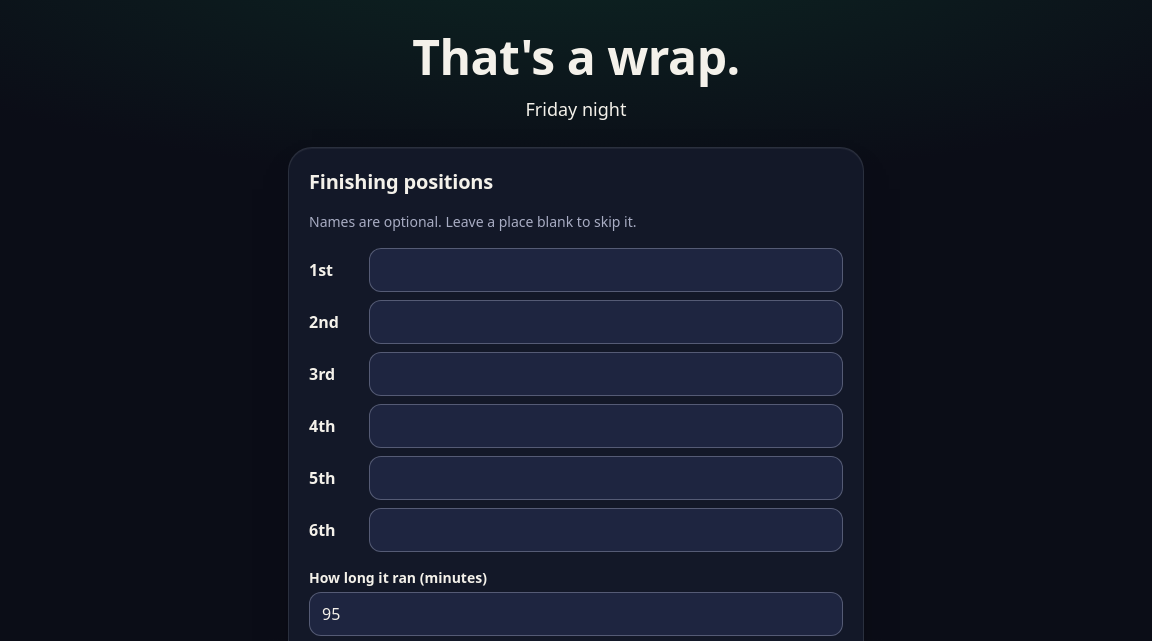
Test: results screen › records finishing positions and the actual duration
Expected: the heading "That's a wrap." is shown, [412, 24, 740, 89]
Expected: the field labelled "How long it ran (minutes)" holds "95", [309, 592, 843, 636]
Type "Sam" into the field named "Name for 1st place" at (606, 270), box [369, 248, 843, 292]
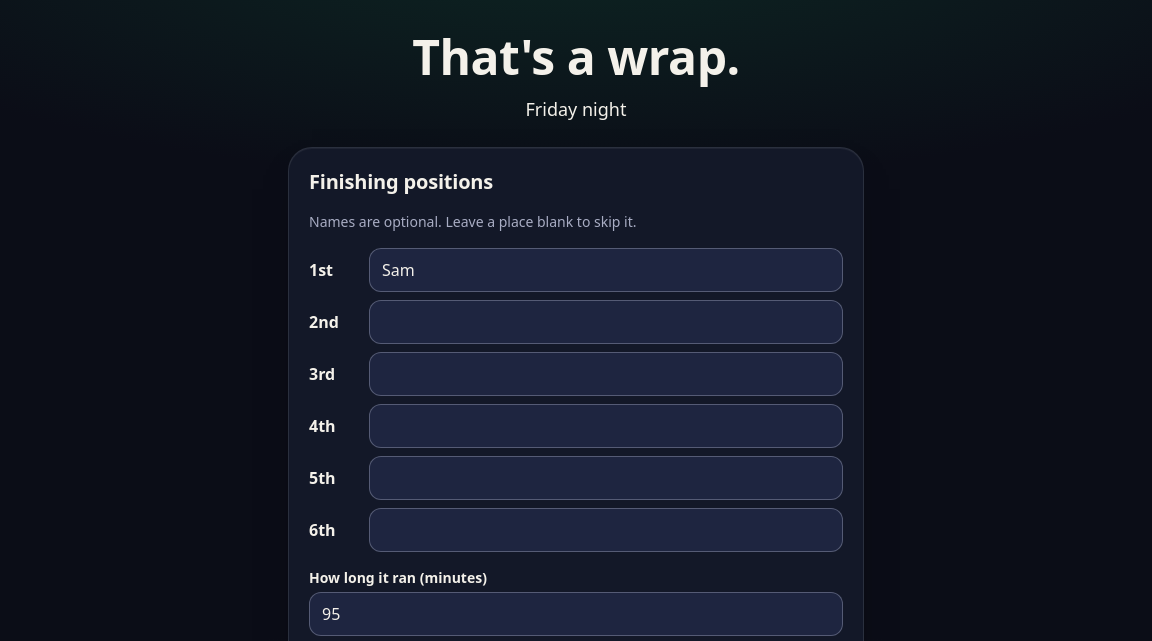
Replace the text in the field labelled "How long it ran (minutes)" with "abc" at (576, 614), box [309, 592, 843, 636]
(page scrolled)
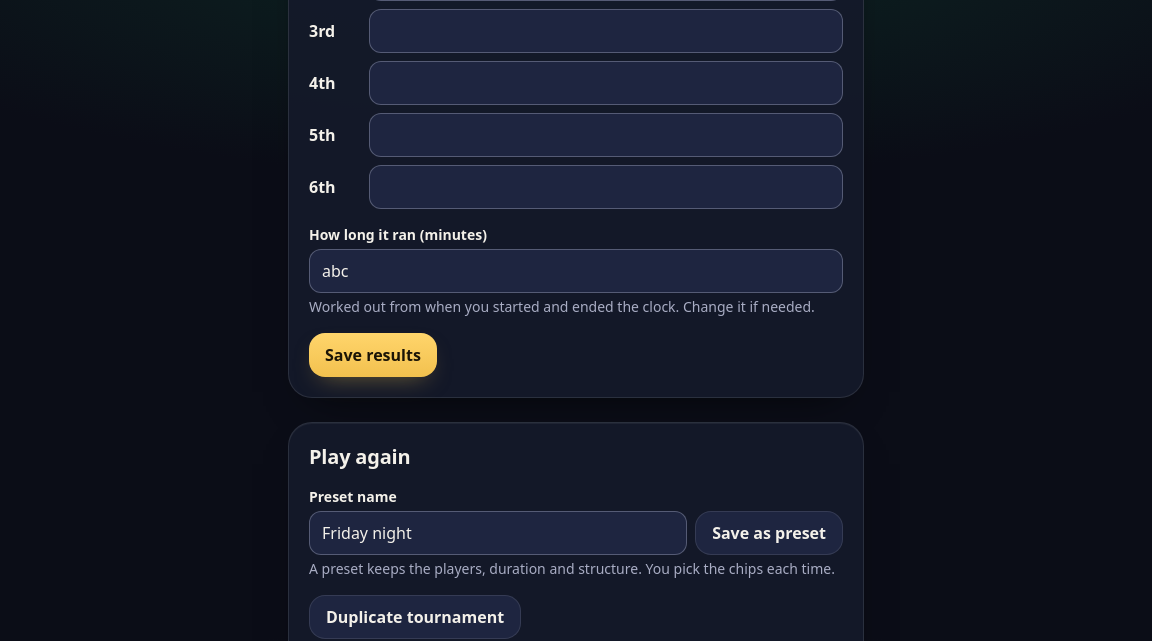
Click the button "Save results" at (373, 355), box [309, 333, 437, 377]
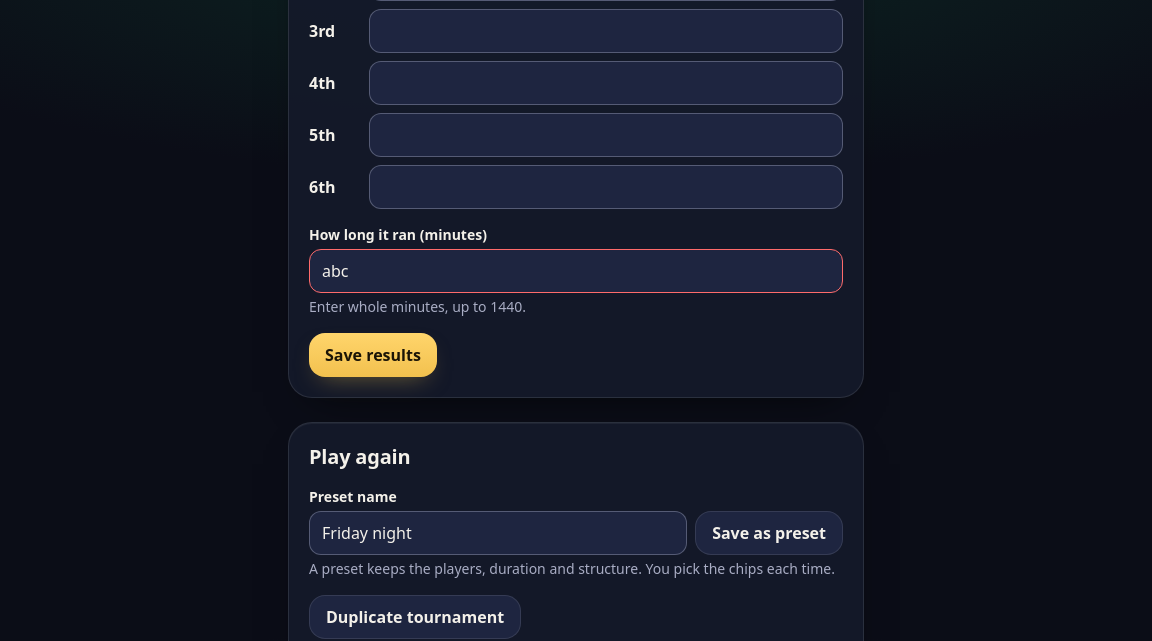
Now the text "Enter whole minutes, up to 1440." is shown, box [309, 297, 526, 316]
Replace the text in the field labelled "How long it ran (minutes)" with "100" at (576, 271), box [309, 249, 843, 293]
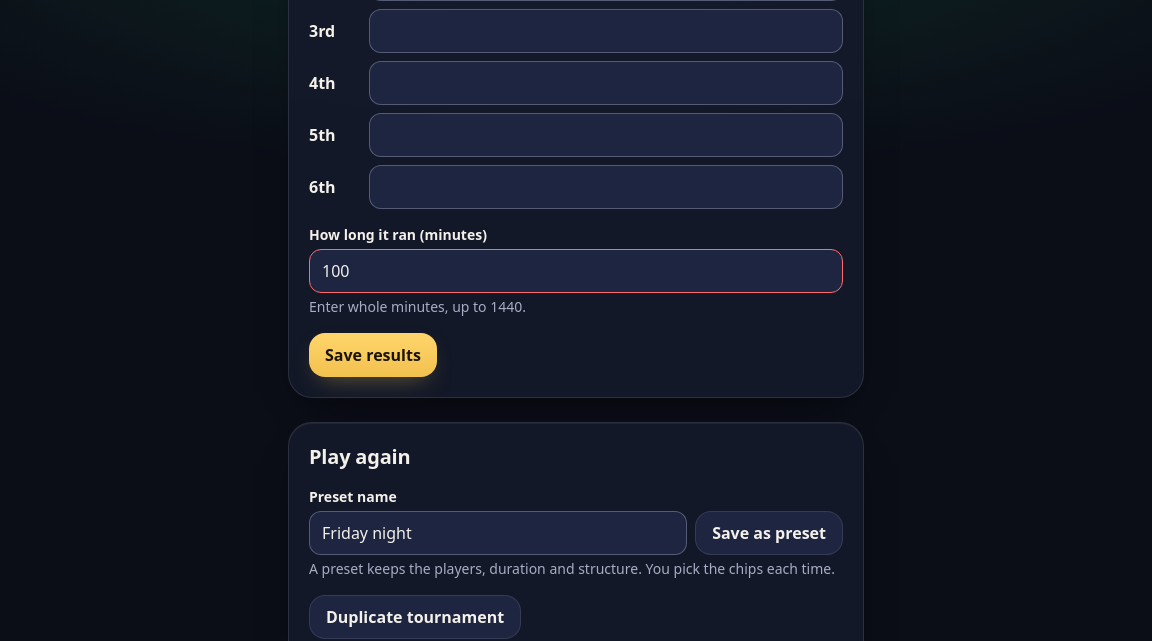
Click the button "Save results" at (373, 355), box [309, 333, 437, 377]
(page scrolled)
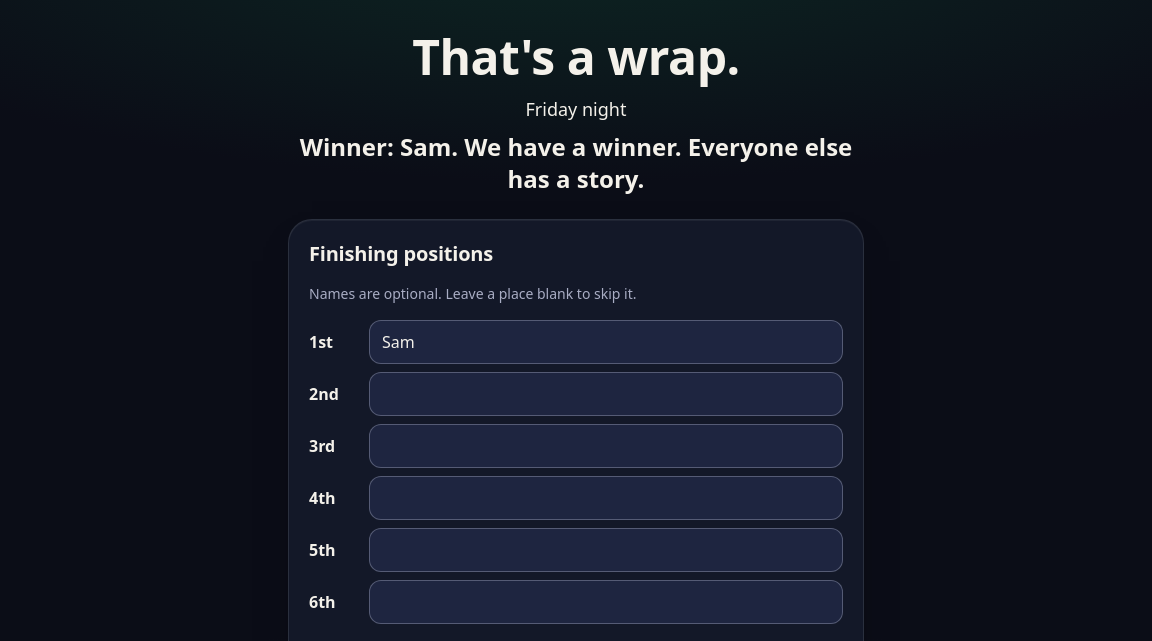
Now the text "Winner: Sam. We have a winner. Everyone else has a story." is shown, box [288, 131, 864, 195]
